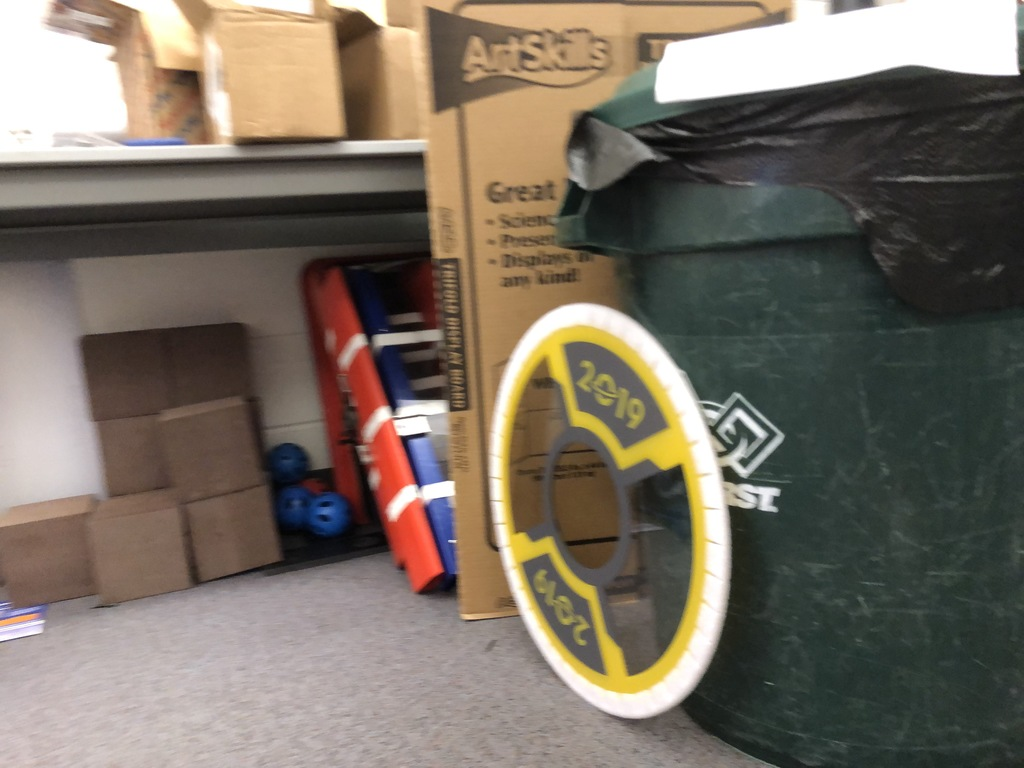hatch_panel: (487, 281, 754, 734)
